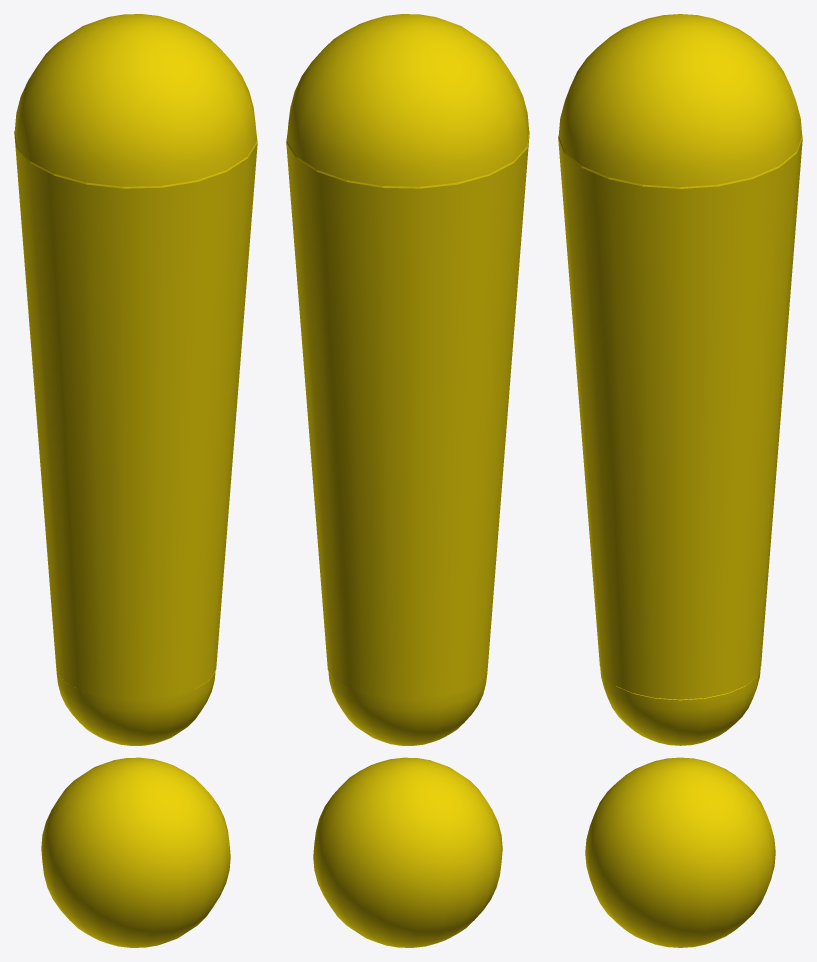
The model's file is guide.fbx.
3 renders of one model, left to right at view 1: azimuth 30°, elevation 25°; view 2: azimuth 150°, elevation 25°; view 3: azimuth 270°, elevation 25°, orthographic.
Parts seen in each view (by area): view 1: Guide; view 2: Guide; view 3: Guide.
Part boxes in pixels (left/top/right/bottom): Guide: left=14, top=14, right=257, bottom=947; Guide: left=286, top=14, right=529, bottom=947; Guide: left=558, top=14, right=802, bottom=947.
Bounding box in the file's own units: 0.9664 × 3.98 × 0.9664.
